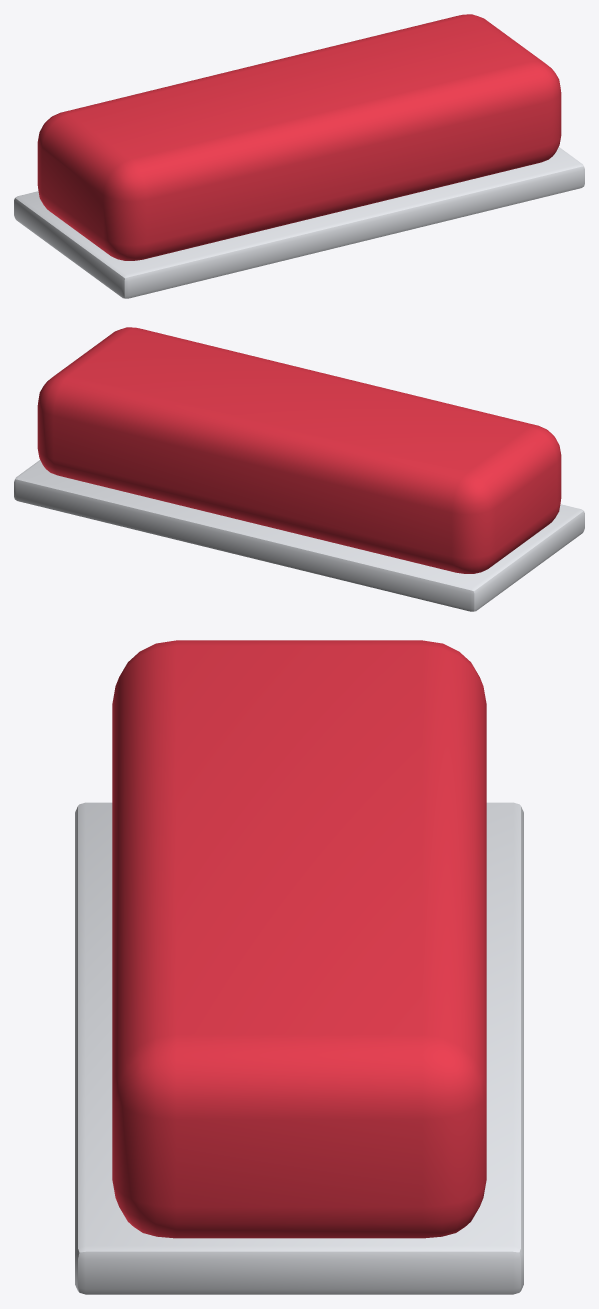
Rendered from SD_WaterEdge_Red.fbx.
3 renders of one model, top to bottom at view 1: azimuth 30°, elevation 25°; view 2: azimuth 150°, elevation 25°; view 3: azimuth 270°, elevation 25°, orthographic. The views are drawn at different scales.
Visible parts, largest first — view 1: WaterEdge_Red; view 2: WaterEdge_Red; view 3: WaterEdge_Red.
Part boxes in pixels (box(x1,y1,x2,y2)): WaterEdge_Red: box(14, 14, 584, 298); WaterEdge_Red: box(14, 327, 584, 611); WaterEdge_Red: box(75, 640, 523, 1294).
Bounding box in the file's own units: 2 × 0.48 × 0.84.
